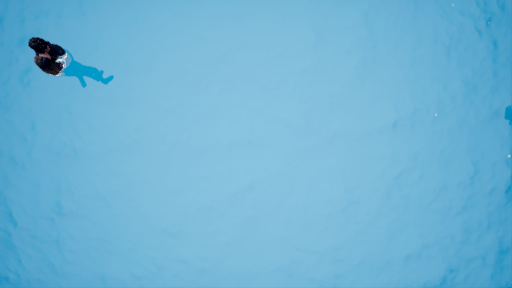person: (29, 37, 114, 90)
